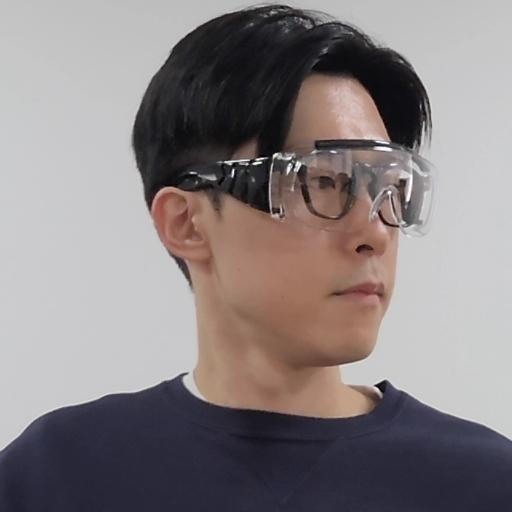glasses: (125, 6, 456, 379)
